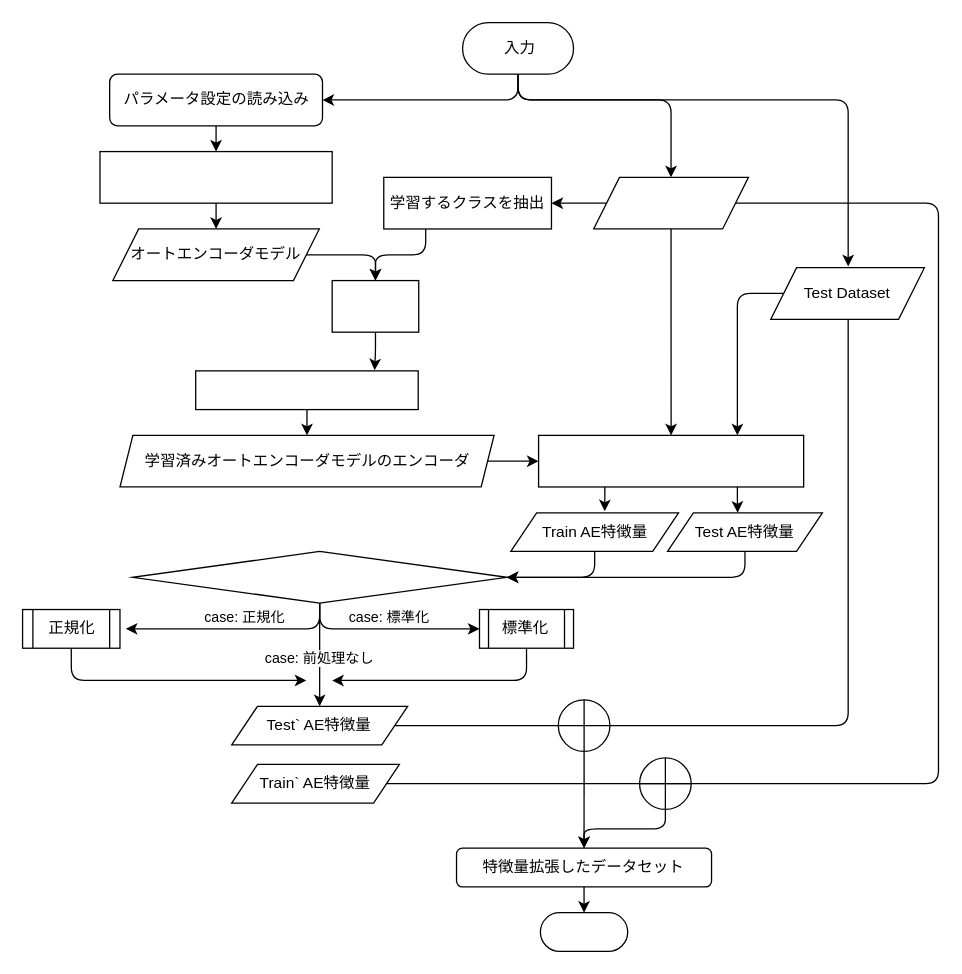
The diagram is 962 pixels wide and 974 high, and some of its shapes have lost their labels. The shapes that lost their labels are listed below. From the top down, each one's box as (x1, y1, x2, y2) in pixels, then its label:
(99, 150, 332, 203): オートエンコーダモデルを定義
(592, 176, 748, 229): Train Dataset
(331, 279, 419, 332): 学習
(194, 370, 418, 410): エンコーダのみを抽出
(537, 434, 804, 487): エンコーダから特徴量を生成
(131, 550, 507, 603): AE特徴量の前処理？
(539, 911, 628, 951): 出力
